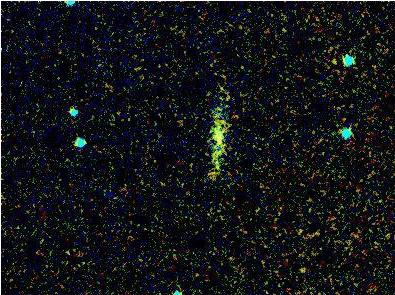star: (317, 49, 347, 79)
